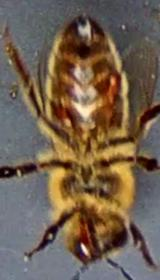varroa_mite: (45, 100, 78, 134), (100, 69, 131, 94)
